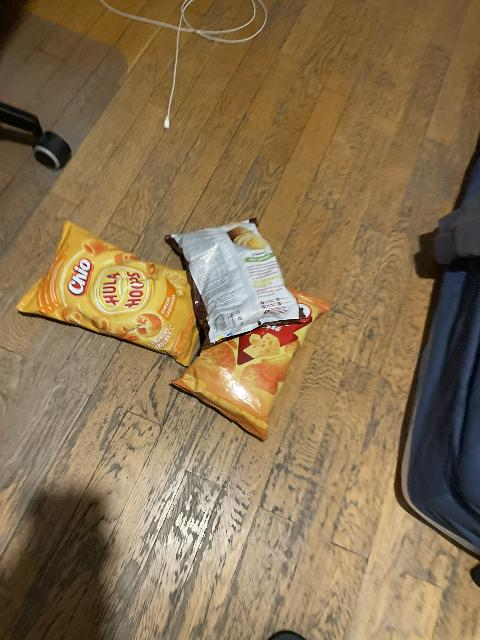Chio Cascaval 125g: (172, 291, 331, 440)
Chio Hula Hoops Cheese 70g: (16, 221, 201, 364)
Lays Beef Grilled Ribs 125g: (166, 218, 307, 346)
